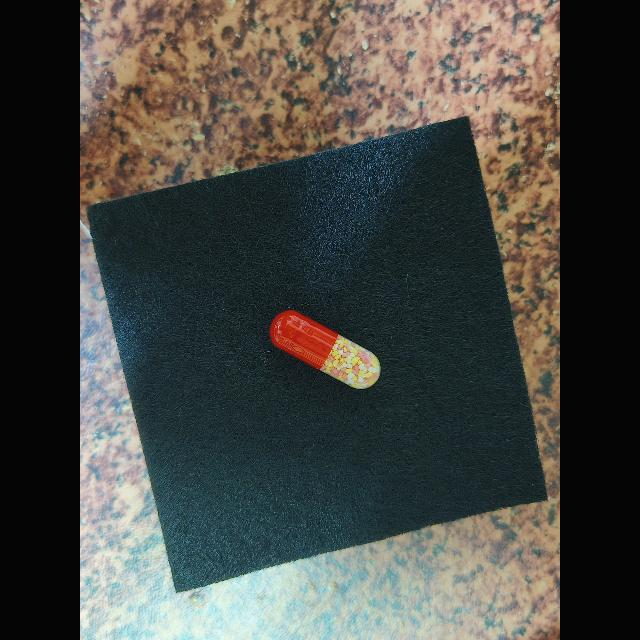Intact Capsule: (269, 310, 381, 389)
